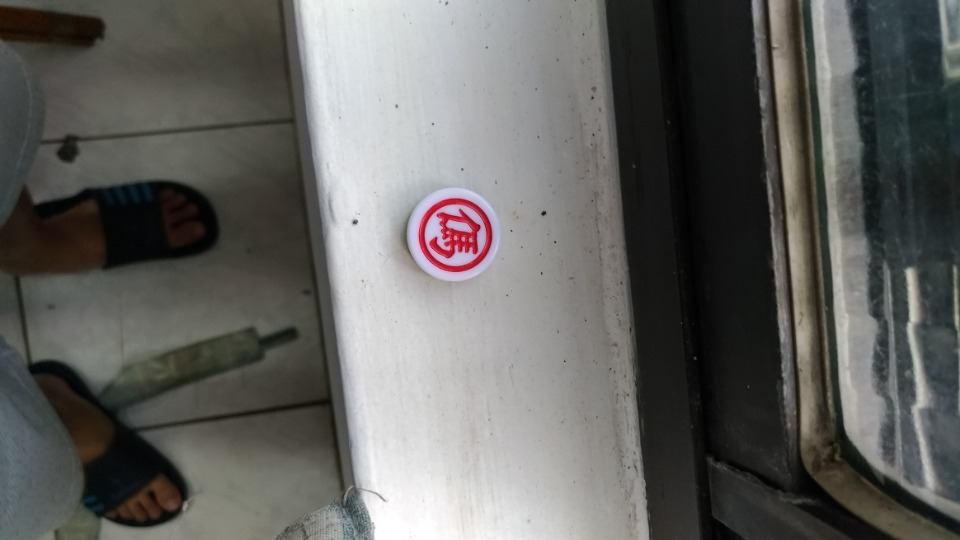r-knight: (402, 180, 508, 294)
